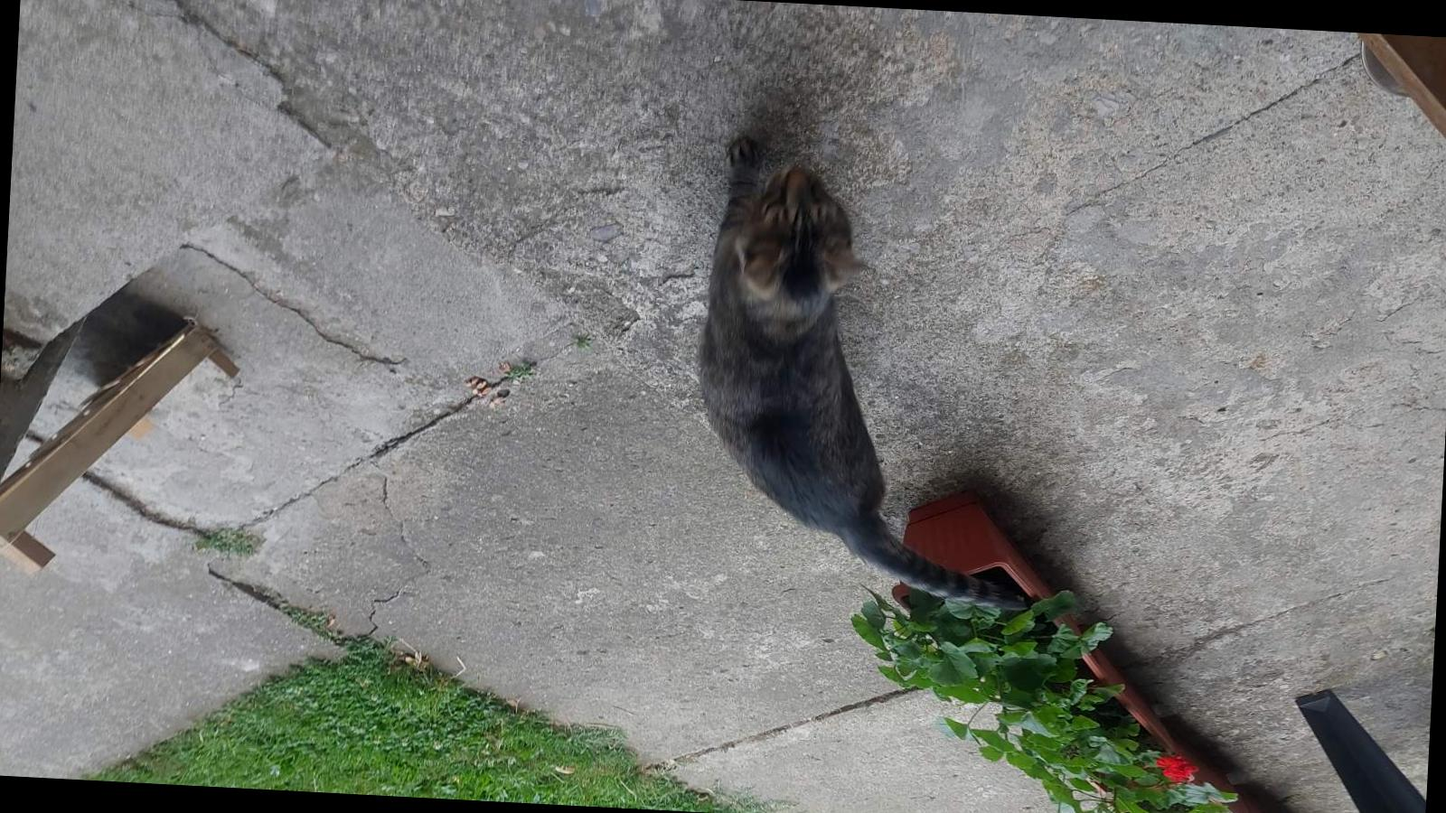macka: (688, 135, 1047, 612)
